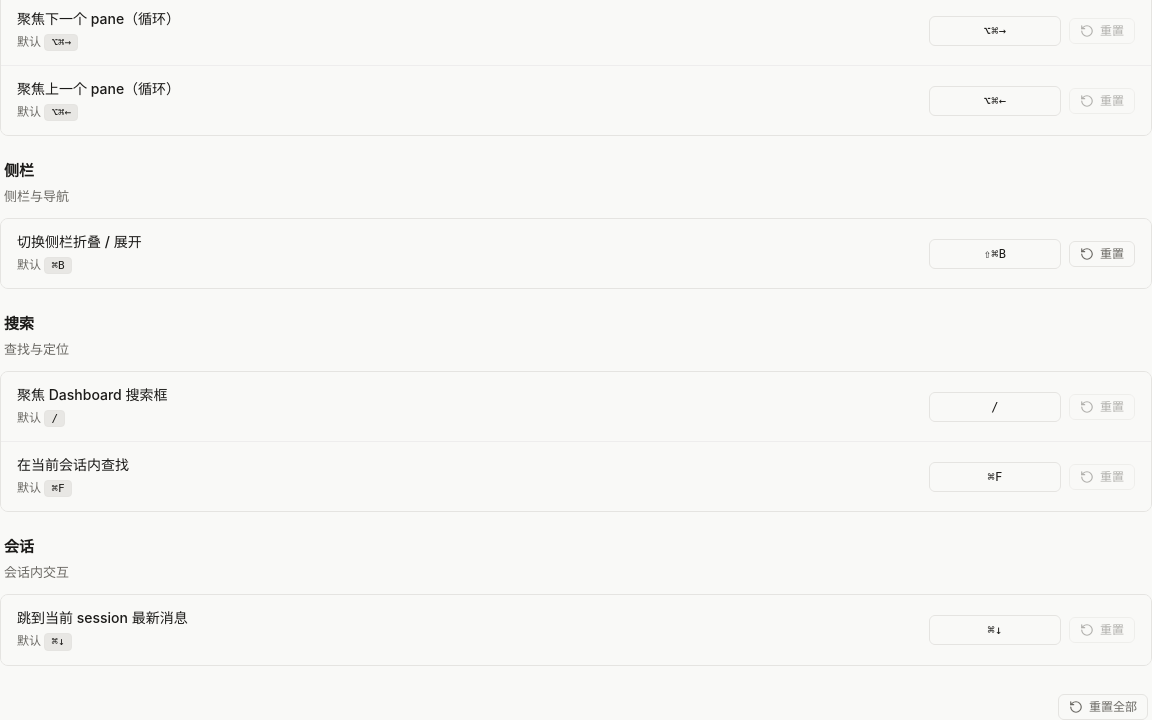
Test: KeyboardShortcutsPanel › __RESET__ sentinel：点 Reset 后行 UI 显示 default binding（不是字面 __RESET__）+ Reset 按钮变 disabled（codex P1-3 fix）
(page scrolled)
Expected: the button "⇧⌘B" is shown, [929, 239, 1061, 269]
Click the button with aria-label "重置 切换侧栏折叠 / 展开 为默认".
click(1102, 254)  # box [1069, 241, 1135, 267]
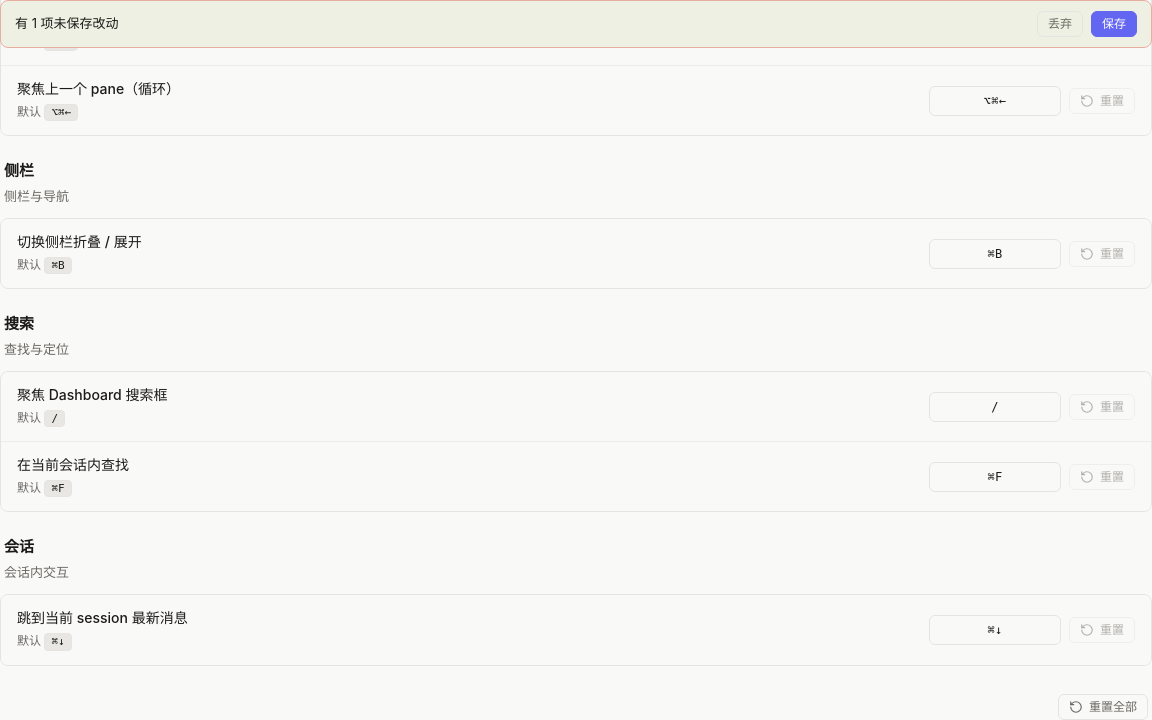
Now the button "⌘B" is shown, box [929, 239, 1061, 269]
Now the button with aria-label "重置 切换侧栏折叠 / 展开 为默认" is disabled, box [1069, 241, 1135, 267]
